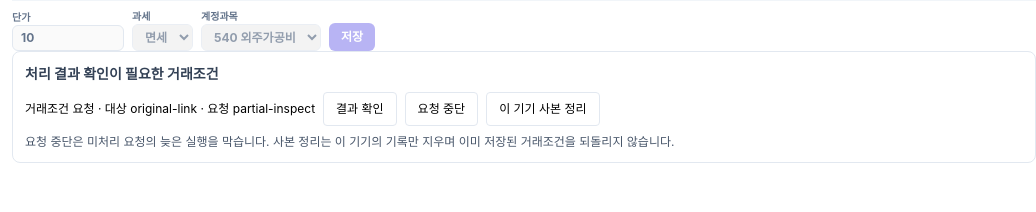
Test: 결과조회 부분성공은 사본정리 실패원인과 다음행동을 유지하고 재열기 성공으로 덮지 않는다
This screenshot has width=1036, height=212.
Click the button "결과 확인" at x=360, y=109, box [323,92,397,126]
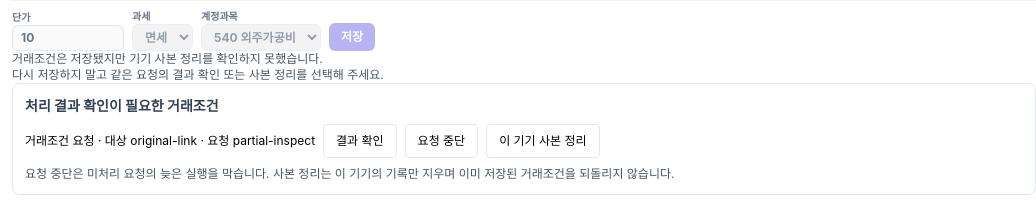
expect the message does not show "현재 자료를 다시 열어": met, box [12,51,384,82]
expect the message shows "기기 사본 정리를 확인하지 못했습니다": met, box [12,51,384,82]
expect the message shows "다시 저장하지 말고": met, box [12,51,384,82]
